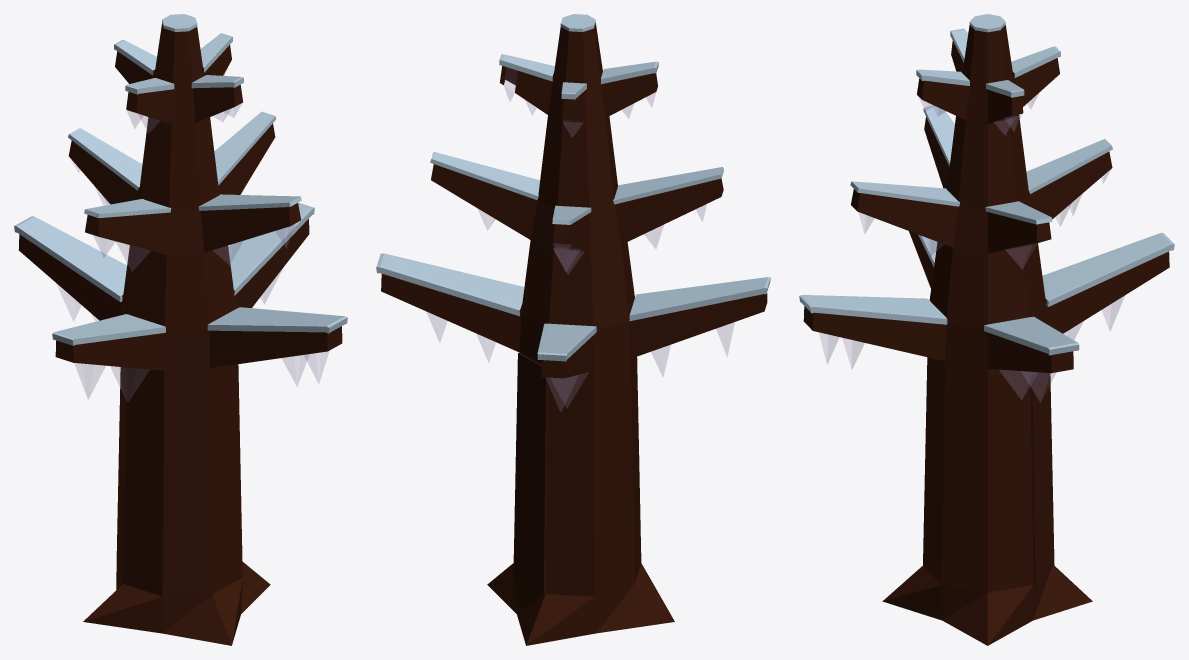
The model's file is M.arvore1.fbx.
3 views of the same model, side by side, from view 1: azimuth 30°, elevation 25°; view 2: azimuth 150°, elevation 25°; view 3: azimuth 270°, elevation 25° (orthographic).
Visible parts, largest first — view 1: pasted__pasted__pasted__pCylinder4; view 2: pasted__pasted__pasted__pCylinder4; view 3: pasted__pasted__pasted__pCylinder4.
Boxes of the visible parts, left/top/right/bottom form: pasted__pasted__pasted__pCylinder4: left=14, top=14, right=347, bottom=645; pasted__pasted__pasted__pCylinder4: left=376, top=14, right=770, bottom=645; pasted__pasted__pasted__pCylinder4: left=799, top=14, right=1174, bottom=645.
Size of the model in its own units: 3.09 by 5.31 by 3.12.
